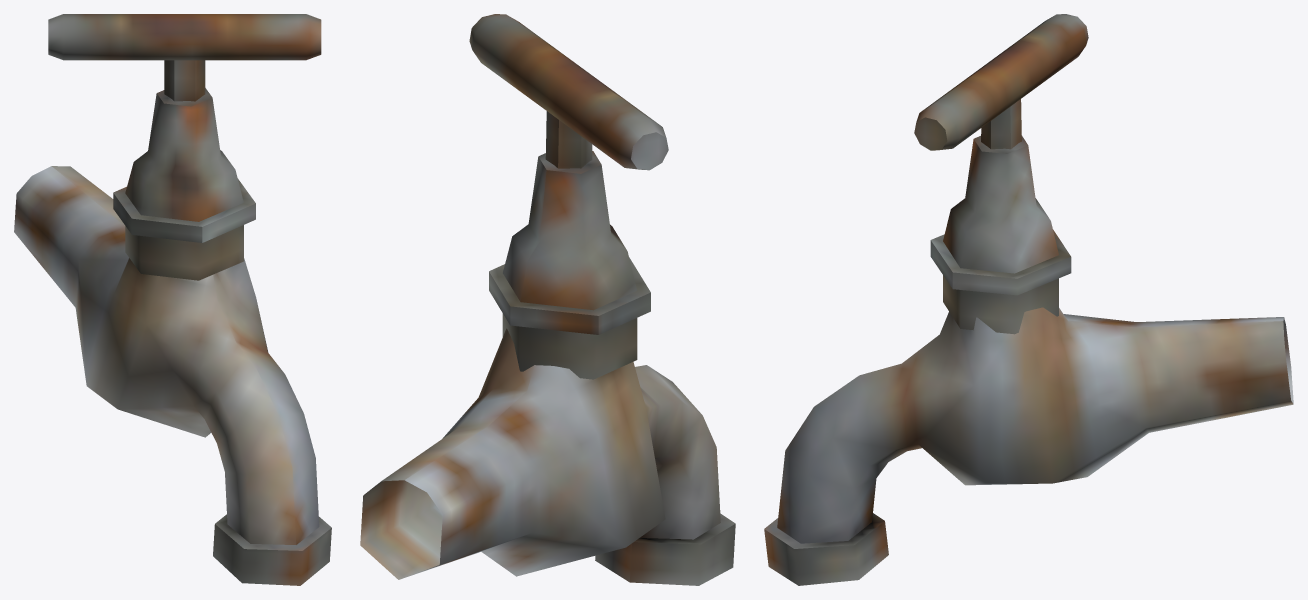
File: Tap_T02.FBX
The picture shows the model from 3 angles, left to right: view 1: azimuth 30°, elevation 25°; view 2: azimuth 150°, elevation 25°; view 3: azimuth 270°, elevation 25°; orthographic projection. The views are drawn at different scales.
Visible parts, largest first — view 1: Tap_T02; view 2: Tap_T02; view 3: Tap_T02.
Boxes of the visible parts, <box> form: Tap_T02: <box>14,14,331,585</box>; Tap_T02: <box>360,14,735,585</box>; Tap_T02: <box>764,14,1293,585</box>.
Size of the model in its own units: 8.1 by 17.05 by 16.26.
